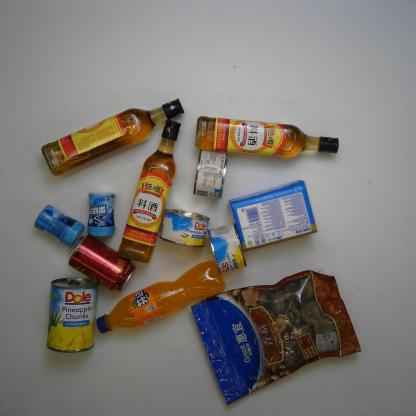Canned Food: (44, 276, 100, 354), (206, 222, 247, 276), (158, 208, 211, 249), (192, 149, 229, 201)
Dried Food: (189, 268, 363, 407)
Drink: (94, 258, 227, 334), (66, 234, 137, 293)
Gum: (32, 203, 85, 250), (86, 190, 117, 238)
Seasoner: (40, 97, 186, 177), (117, 119, 182, 265), (194, 115, 340, 159)
Tissue: (227, 178, 319, 254)
